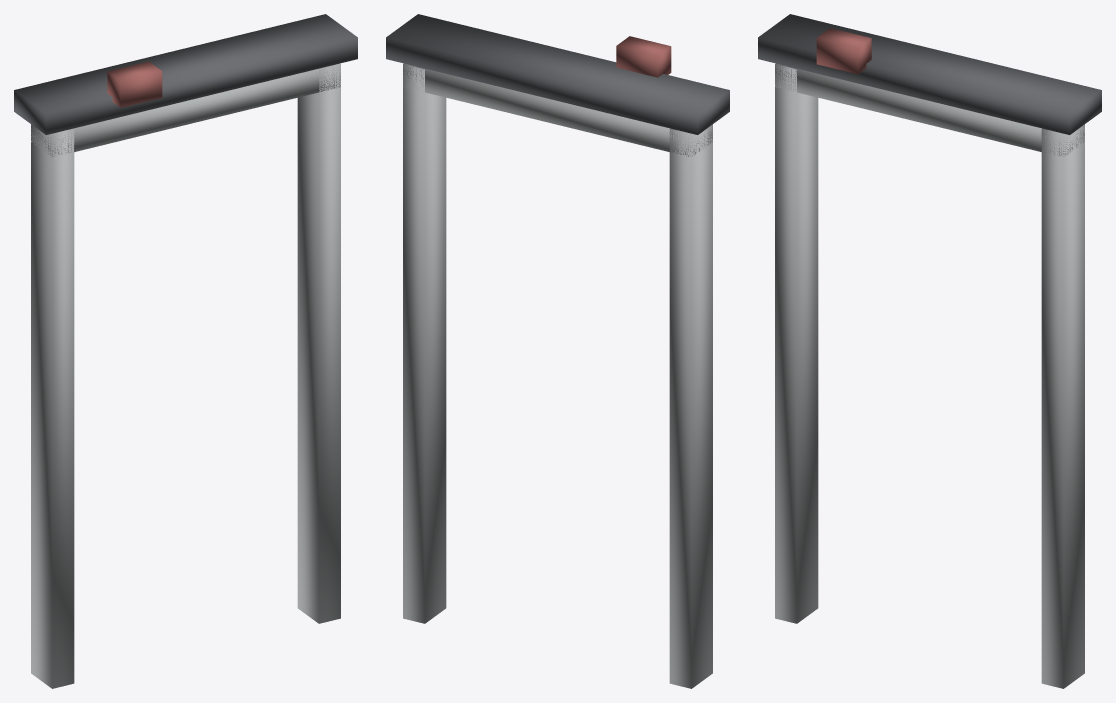
The model's file is doorway_fire_rated_w106_h220_d16.glb.
3 renders of one model, left to right at view 1: azimuth 30°, elevation 25°; view 2: azimuth 150°, elevation 25°; view 3: azimuth 330°, elevation 25°, orthographic.
Parts seen in each view (by area): view 1: world; view 2: world; view 3: world.
Boxes of the visible parts, left/top/right/bottom form: world: left=14, top=14, right=357, bottom=688; world: left=386, top=14, right=729, bottom=688; world: left=758, top=14, right=1101, bottom=688.
Size of the model in its own units: 1.35 by 2.5 by 0.3.
